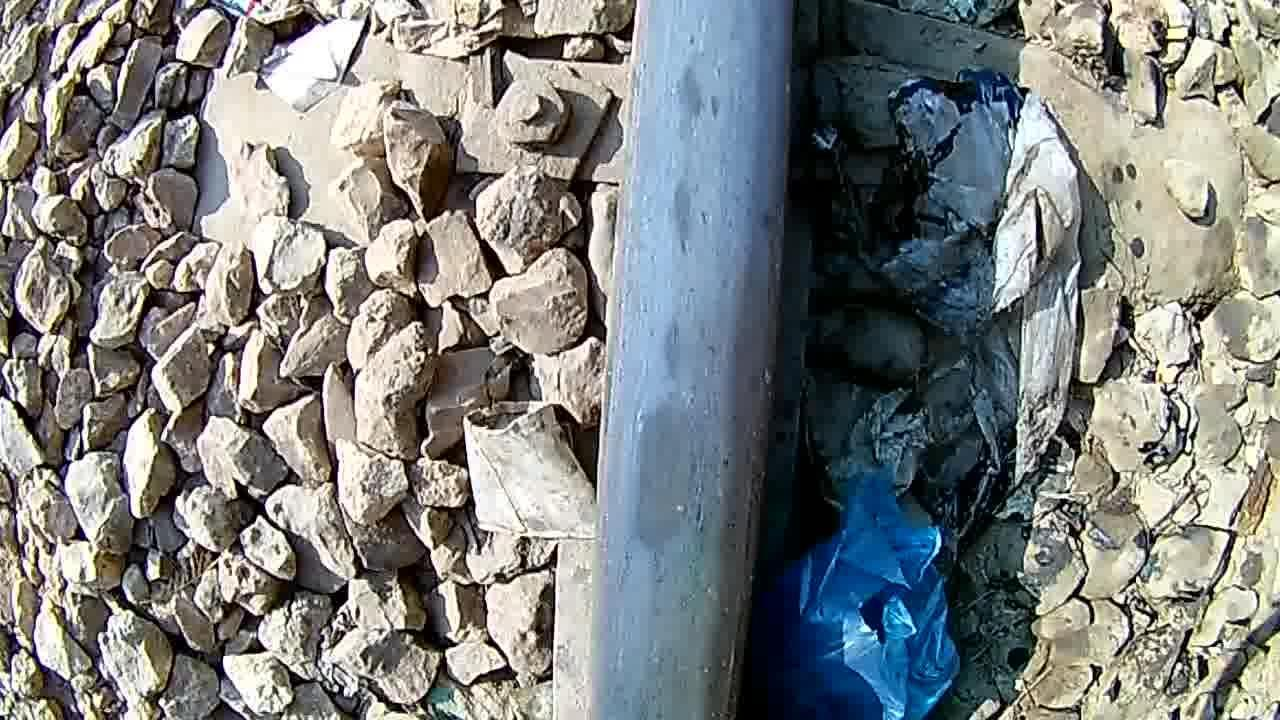crack: (593, 15, 774, 628)
